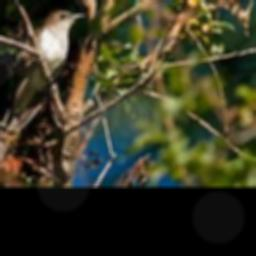Cuckoo: (0, 11, 85, 166)
